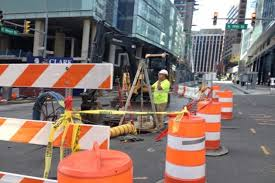barrel: (168, 118, 206, 183), (197, 102, 223, 152), (219, 91, 233, 119)
